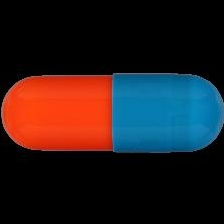51285-539: (0, 0, 224, 224)
